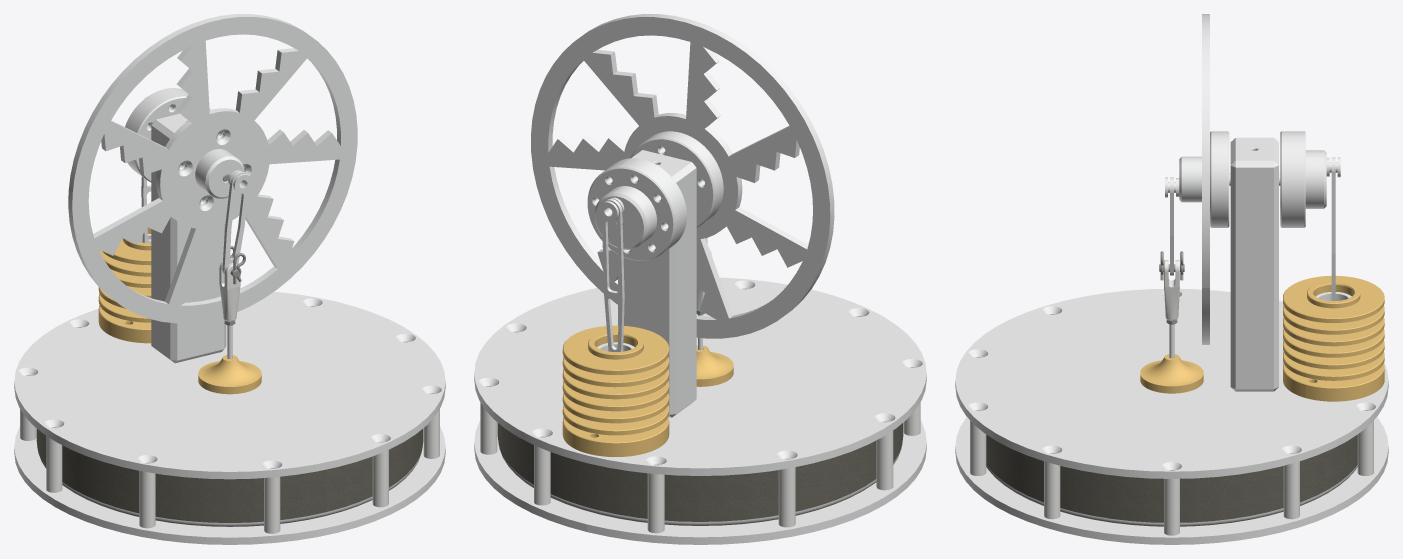
File: StirlingEngine.glb
3 views of the same model, side by side, from view 1: azimuth 30°, elevation 25°; view 2: azimuth 150°, elevation 25°; view 3: azimuth 270°, elevation 25° (orthographic). The views are drawn at different scales.
Parts seen in each view (by area): view 1: Body1_006, Body1_021, Body1_002, Body1_038, Body1_009, Body1_025, Body1_008, Body1_022, Body1_024, Body1_017, Body1_016, Body1_001 (+5 smaller); view 2: Body1_006, Body1_021, Body1_002, Body1_025, Body1_038, Body1_009, Body1_022, Body1_024, Body1_031, Body1_017, Body1_008, Body1_005 (+4 smaller); view 3: Body1_006, Body1_002, Body1_009, Body1_025, Body1_038, Body1_022, Body1_024, Body1_021, Body1_008, Body1_017, Body1_015, Body1_011 (+5 smaller).
Boxes of the visible parts, x1,y1,x2,y2 form: Body1_006: [14, 291, 445, 479]; Body1_021: [68, 14, 357, 323]; Body1_002: [36, 428, 423, 522]; Body1_038: [14, 426, 445, 544]; Body1_009: [151, 113, 226, 363]; Body1_025: [98, 227, 151, 343]; Body1_008: [198, 355, 261, 394]; Body1_022: [125, 88, 210, 182]; Body1_024: [179, 131, 244, 204]; Body1_017: [38, 451, 421, 526]; Body1_016: [222, 171, 248, 274]; Body1_001: [264, 476, 280, 533]; Body1_006: [474, 277, 926, 475]; Body1_021: [531, 14, 834, 338]; Body1_002: [497, 423, 903, 521]; Body1_025: [562, 325, 669, 456]; Body1_038: [474, 420, 926, 544]; Body1_009: [618, 150, 696, 417]; Body1_022: [587, 158, 686, 260]; Body1_024: [630, 131, 723, 227]; Body1_031: [602, 198, 624, 351]; Body1_017: [499, 447, 901, 525]; Body1_008: [696, 345, 733, 386]; Body1_005: [647, 473, 664, 533]; Body1_006: [955, 288, 1388, 478]; Body1_002: [986, 434, 1357, 522]; Body1_009: [1230, 137, 1278, 391]; Body1_025: [1283, 275, 1384, 401]; Body1_038: [955, 417, 1388, 544]; Body1_022: [1279, 131, 1326, 227]; Body1_024: [1179, 131, 1230, 227]; Body1_021: [1202, 14, 1209, 344]; Body1_008: [1140, 354, 1203, 393]; Body1_017: [986, 465, 1357, 526]; Body1_015: [1044, 461, 1060, 519]; Body1_011: [1283, 461, 1299, 519].
Size of the model in its own units: 8.5 by 9.18 by 8.5.
Materials: 6 (1 with a texture image).
